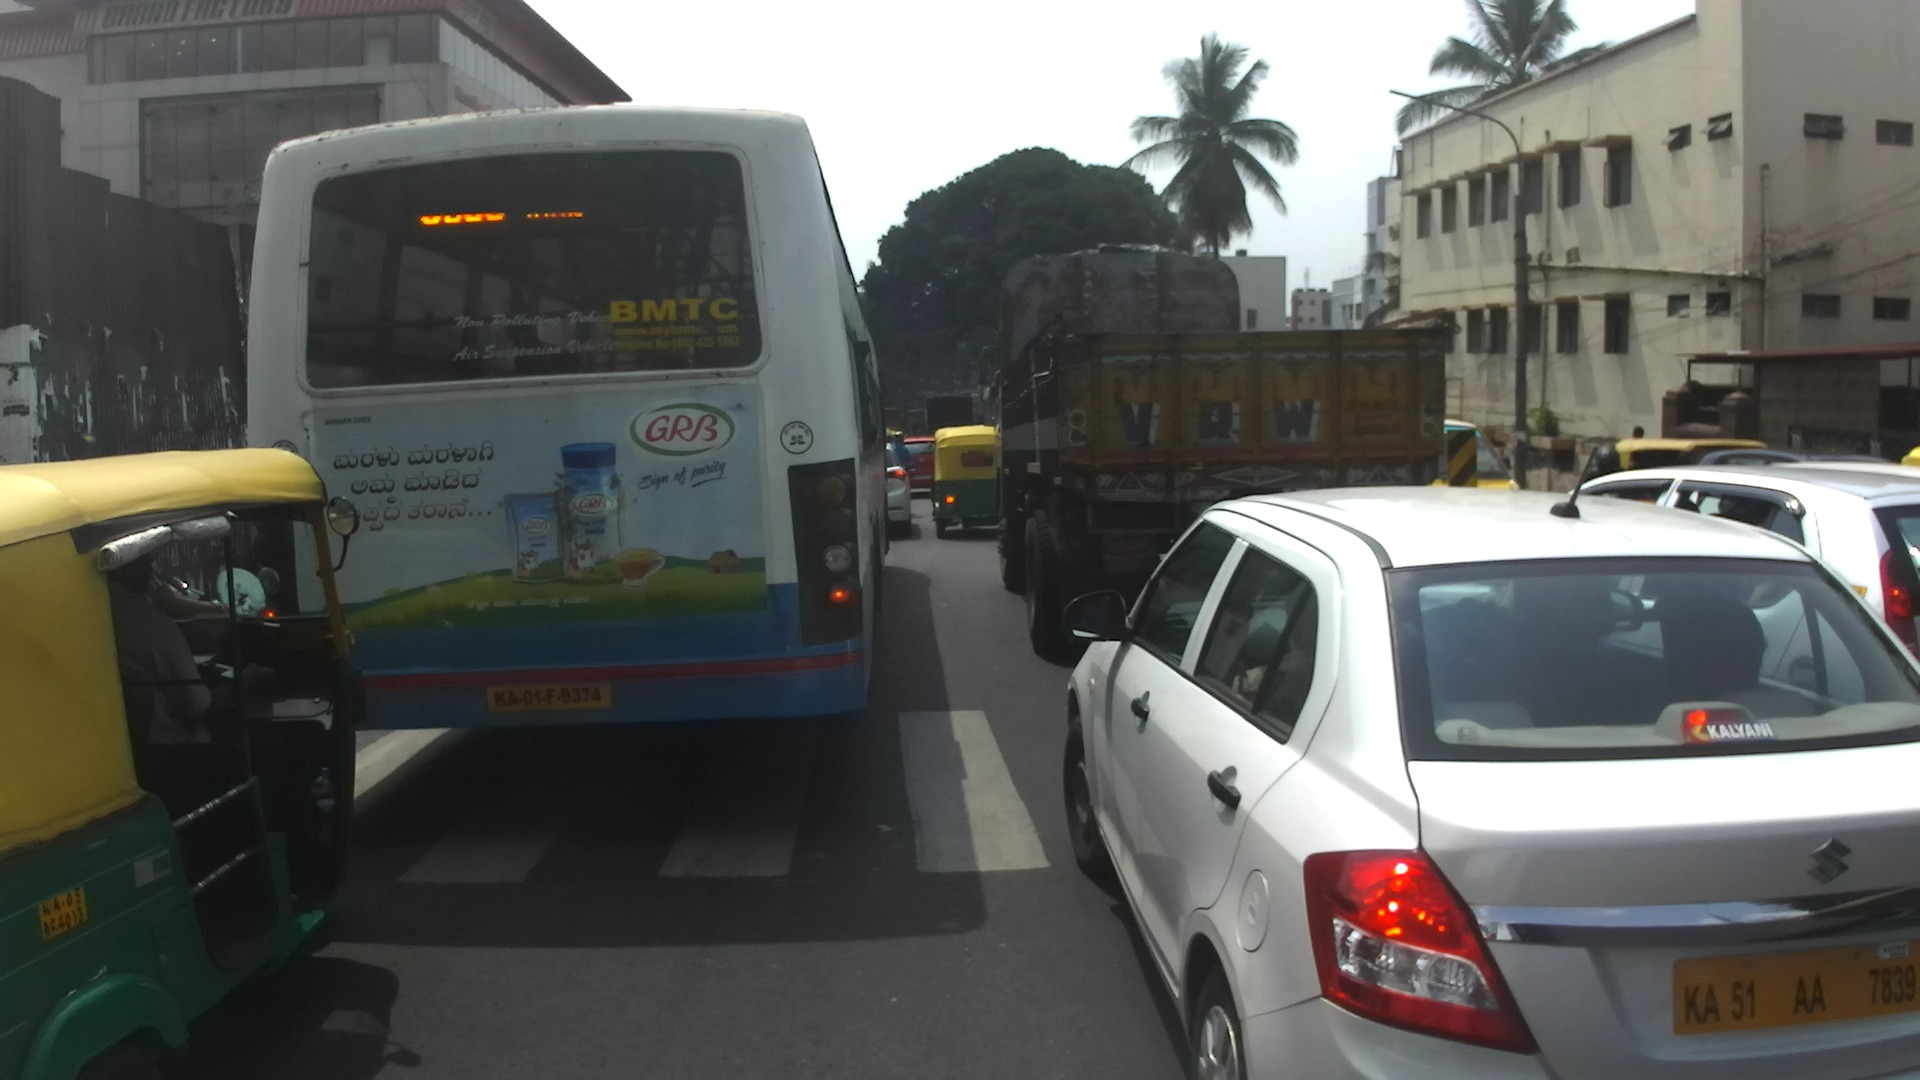autorickshaw: (1, 443, 362, 1080), (930, 424, 1012, 538), (1616, 438, 1769, 478), (1898, 446, 1920, 468)
bus: (242, 102, 886, 724)
car: (1056, 446, 1920, 1076), (1566, 461, 1920, 679), (1697, 447, 1895, 470), (880, 441, 915, 538), (897, 435, 938, 493)
person: (1629, 425, 1645, 440)
rider: (1584, 443, 1624, 487), (892, 432, 910, 477)
truck: (980, 241, 1451, 661), (1426, 417, 1521, 491), (926, 391, 973, 443)
vehicle fallback: (882, 407, 904, 442), (907, 401, 927, 437)
